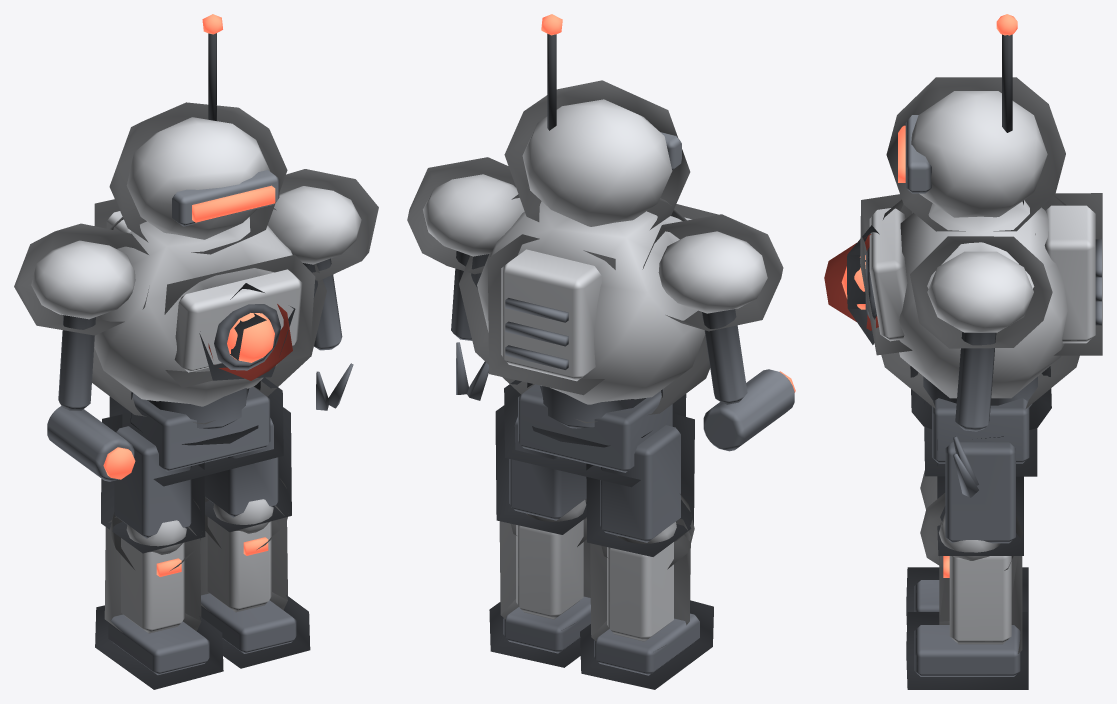
The model's file is walker.glb.
3 renders of one model, left to right at view 1: azimuth 30°, elevation 25°; view 2: azimuth 150°, elevation 25°; view 3: azimuth 270°, elevation 25°, orthographic. The views are drawn at different scales.
Visible parts, largest first — view 1: Body_Mesh, Body_Mesh_Outline, ThighR_Mesh, ThighL_Mesh, ThighR_Mesh_Outline, ThighL_Mesh_Outline; view 2: Body_Mesh, Body_Mesh_Outline, ThighR_Mesh, ThighL_Mesh, ThighR_Mesh_Outline, ThighL_Mesh_Outline; view 3: Body_Mesh, Body_Mesh_Outline, ThighL_Mesh, ThighL_Mesh_Outline, ThighR_Mesh_Outline, ThighR_Mesh.
Boxes of the visible parts, left/top/right/bottom form: Body_Mesh: left=31, top=14, right=361, bottom=481; Body_Mesh_Outline: left=14, top=102, right=378, bottom=486; ThighR_Mesh: left=108, top=426, right=209, bottom=674; ThighL_Mesh: left=201, top=418, right=296, bottom=653; ThighR_Mesh_Outline: left=95, top=414, right=223, bottom=689; ThighL_Mesh_Outline: left=200, top=407, right=310, bottom=668; Body_Mesh: left=423, top=14, right=795, bottom=472; Body_Mesh_Outline: left=407, top=80, right=783, bottom=487; ThighR_Mesh: left=594, top=425, right=699, bottom=675; ThighL_Mesh: left=503, top=417, right=590, bottom=653; ThighR_Mesh_Outline: left=580, top=413, right=713, bottom=689; ThighL_Mesh_Outline: left=489, top=405, right=590, bottom=667; Body_Mesh: left=841, top=14, right=1101, bottom=497; Body_Mesh_Outline: left=824, top=77, right=1102, bottom=476; ThighL_Mesh: left=914, top=442, right=1020, bottom=676; ThighL_Mesh_Outline: left=906, top=439, right=1028, bottom=689; ThighR_Mesh_Outline: left=906, top=470, right=1028, bottom=624; ThighR_Mesh: left=914, top=580, right=939, bottom=611.
Size of the model in its own units: 0.9552 by 1.63 by 0.6305.
